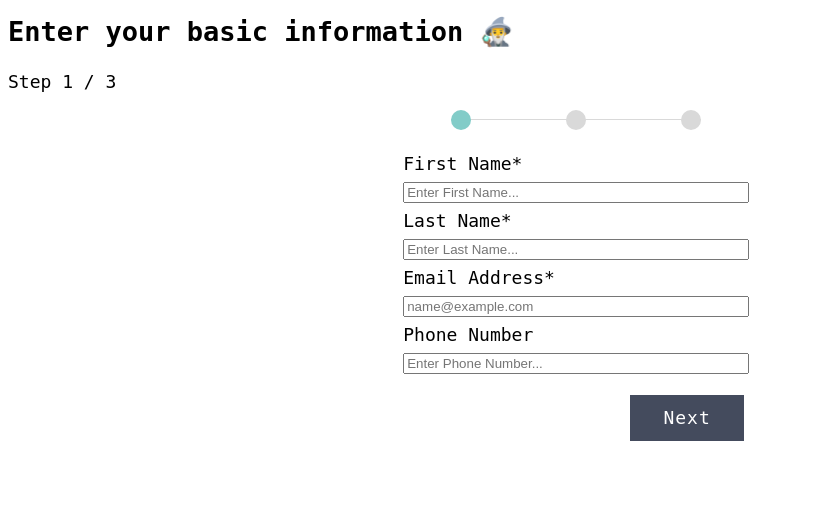
Test case: first name is required
The image size is (832, 526).
In the field with test id "lname": [576, 249] box [403,239,749,260], type "chen"
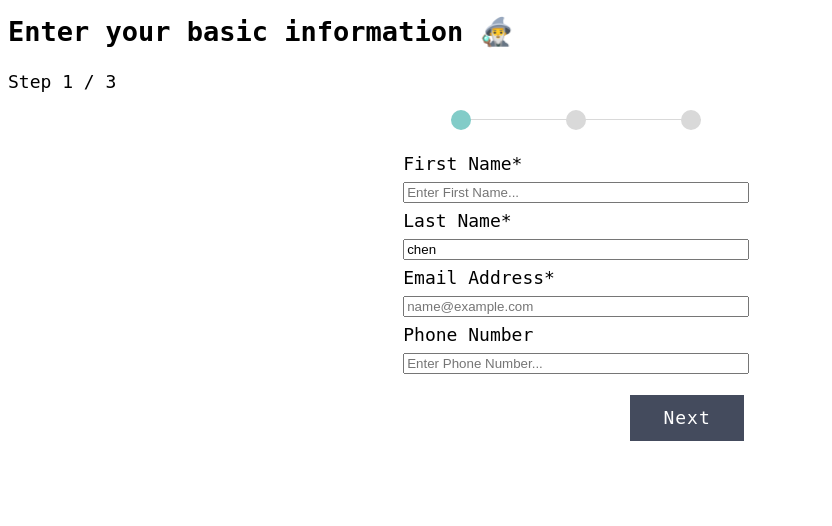
In the field with test id "email": [576, 306] box [403,296,749,317], type "yueer.chen0318@gmail.com"
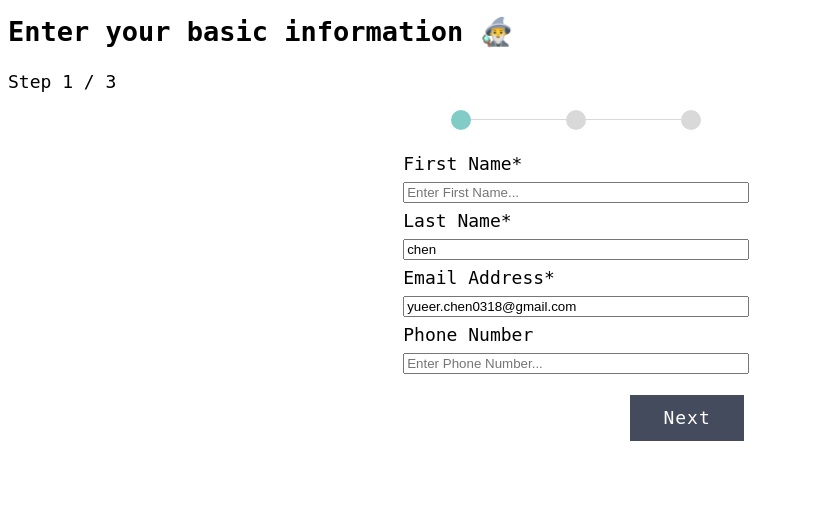
Click the button with test id "continue-first": [687, 418] box [630,395,744,441]
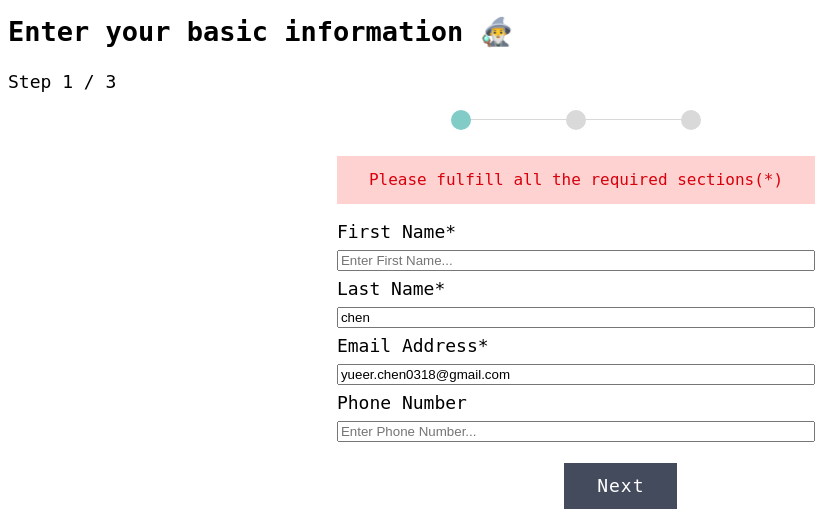
Expected: the text with test id "details-error" reads "Please fulfill all the required sections(*)", [369,170,783,189]
